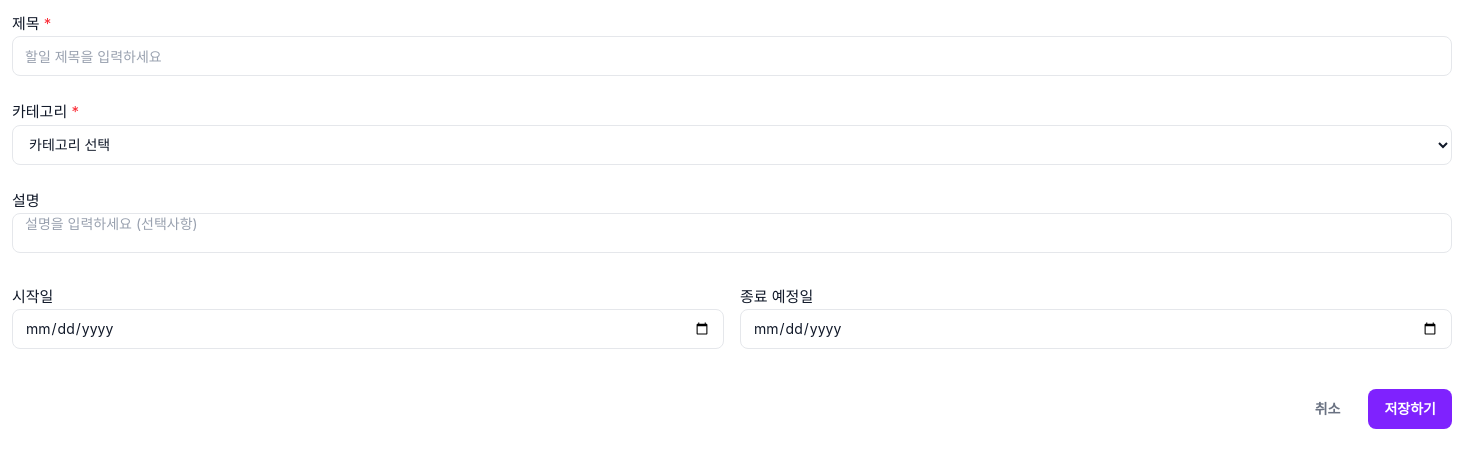
TodoForm (할일 등록) › 카테고리 미선택 시 폼 제출 시 에러가 표시된다 (BR-04)
In the field with placeholder "할일 제목을 입력하세요": (732,56) [12,36,1452,76], type "새 할일"
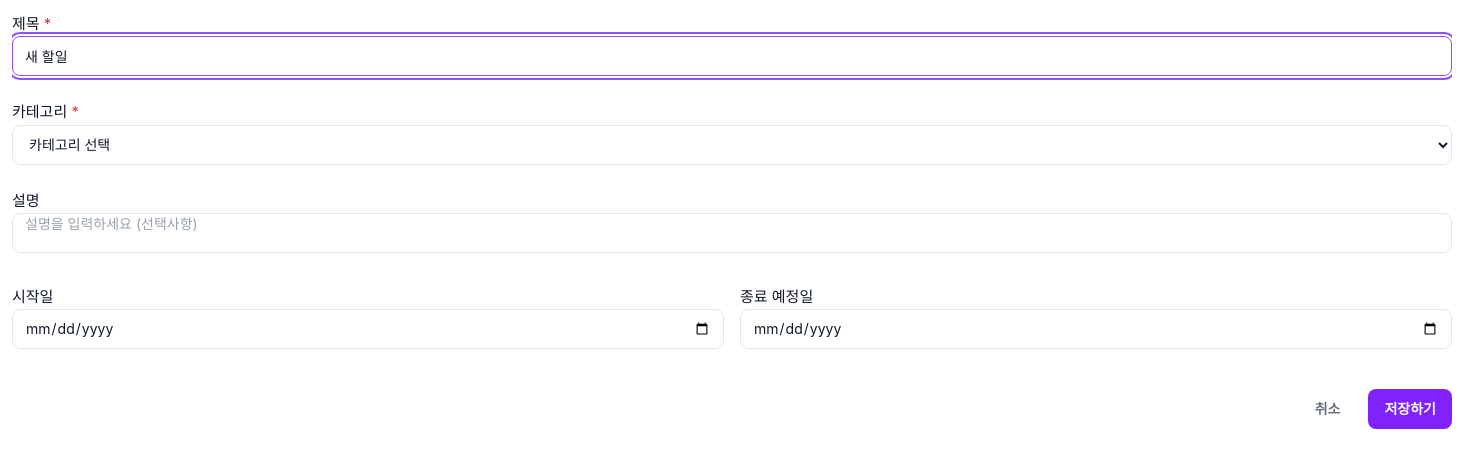
Click the button "저장하기": (1410,409) [1368,389,1452,429]
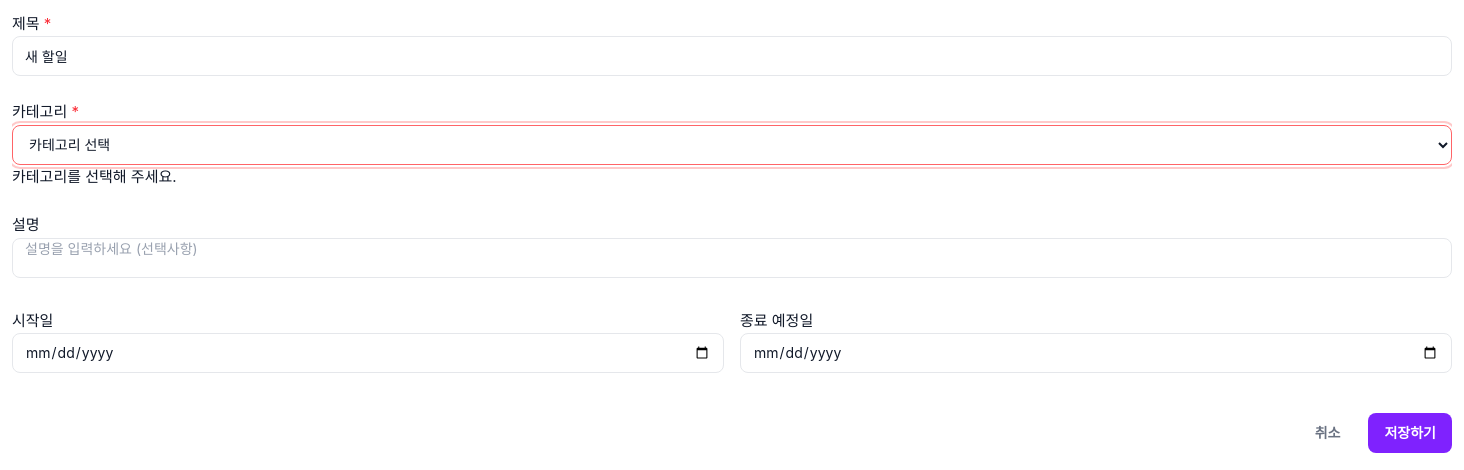
Check: the text "카테고리를 선택해 주세요." is shown, box [12,167,177,186]
